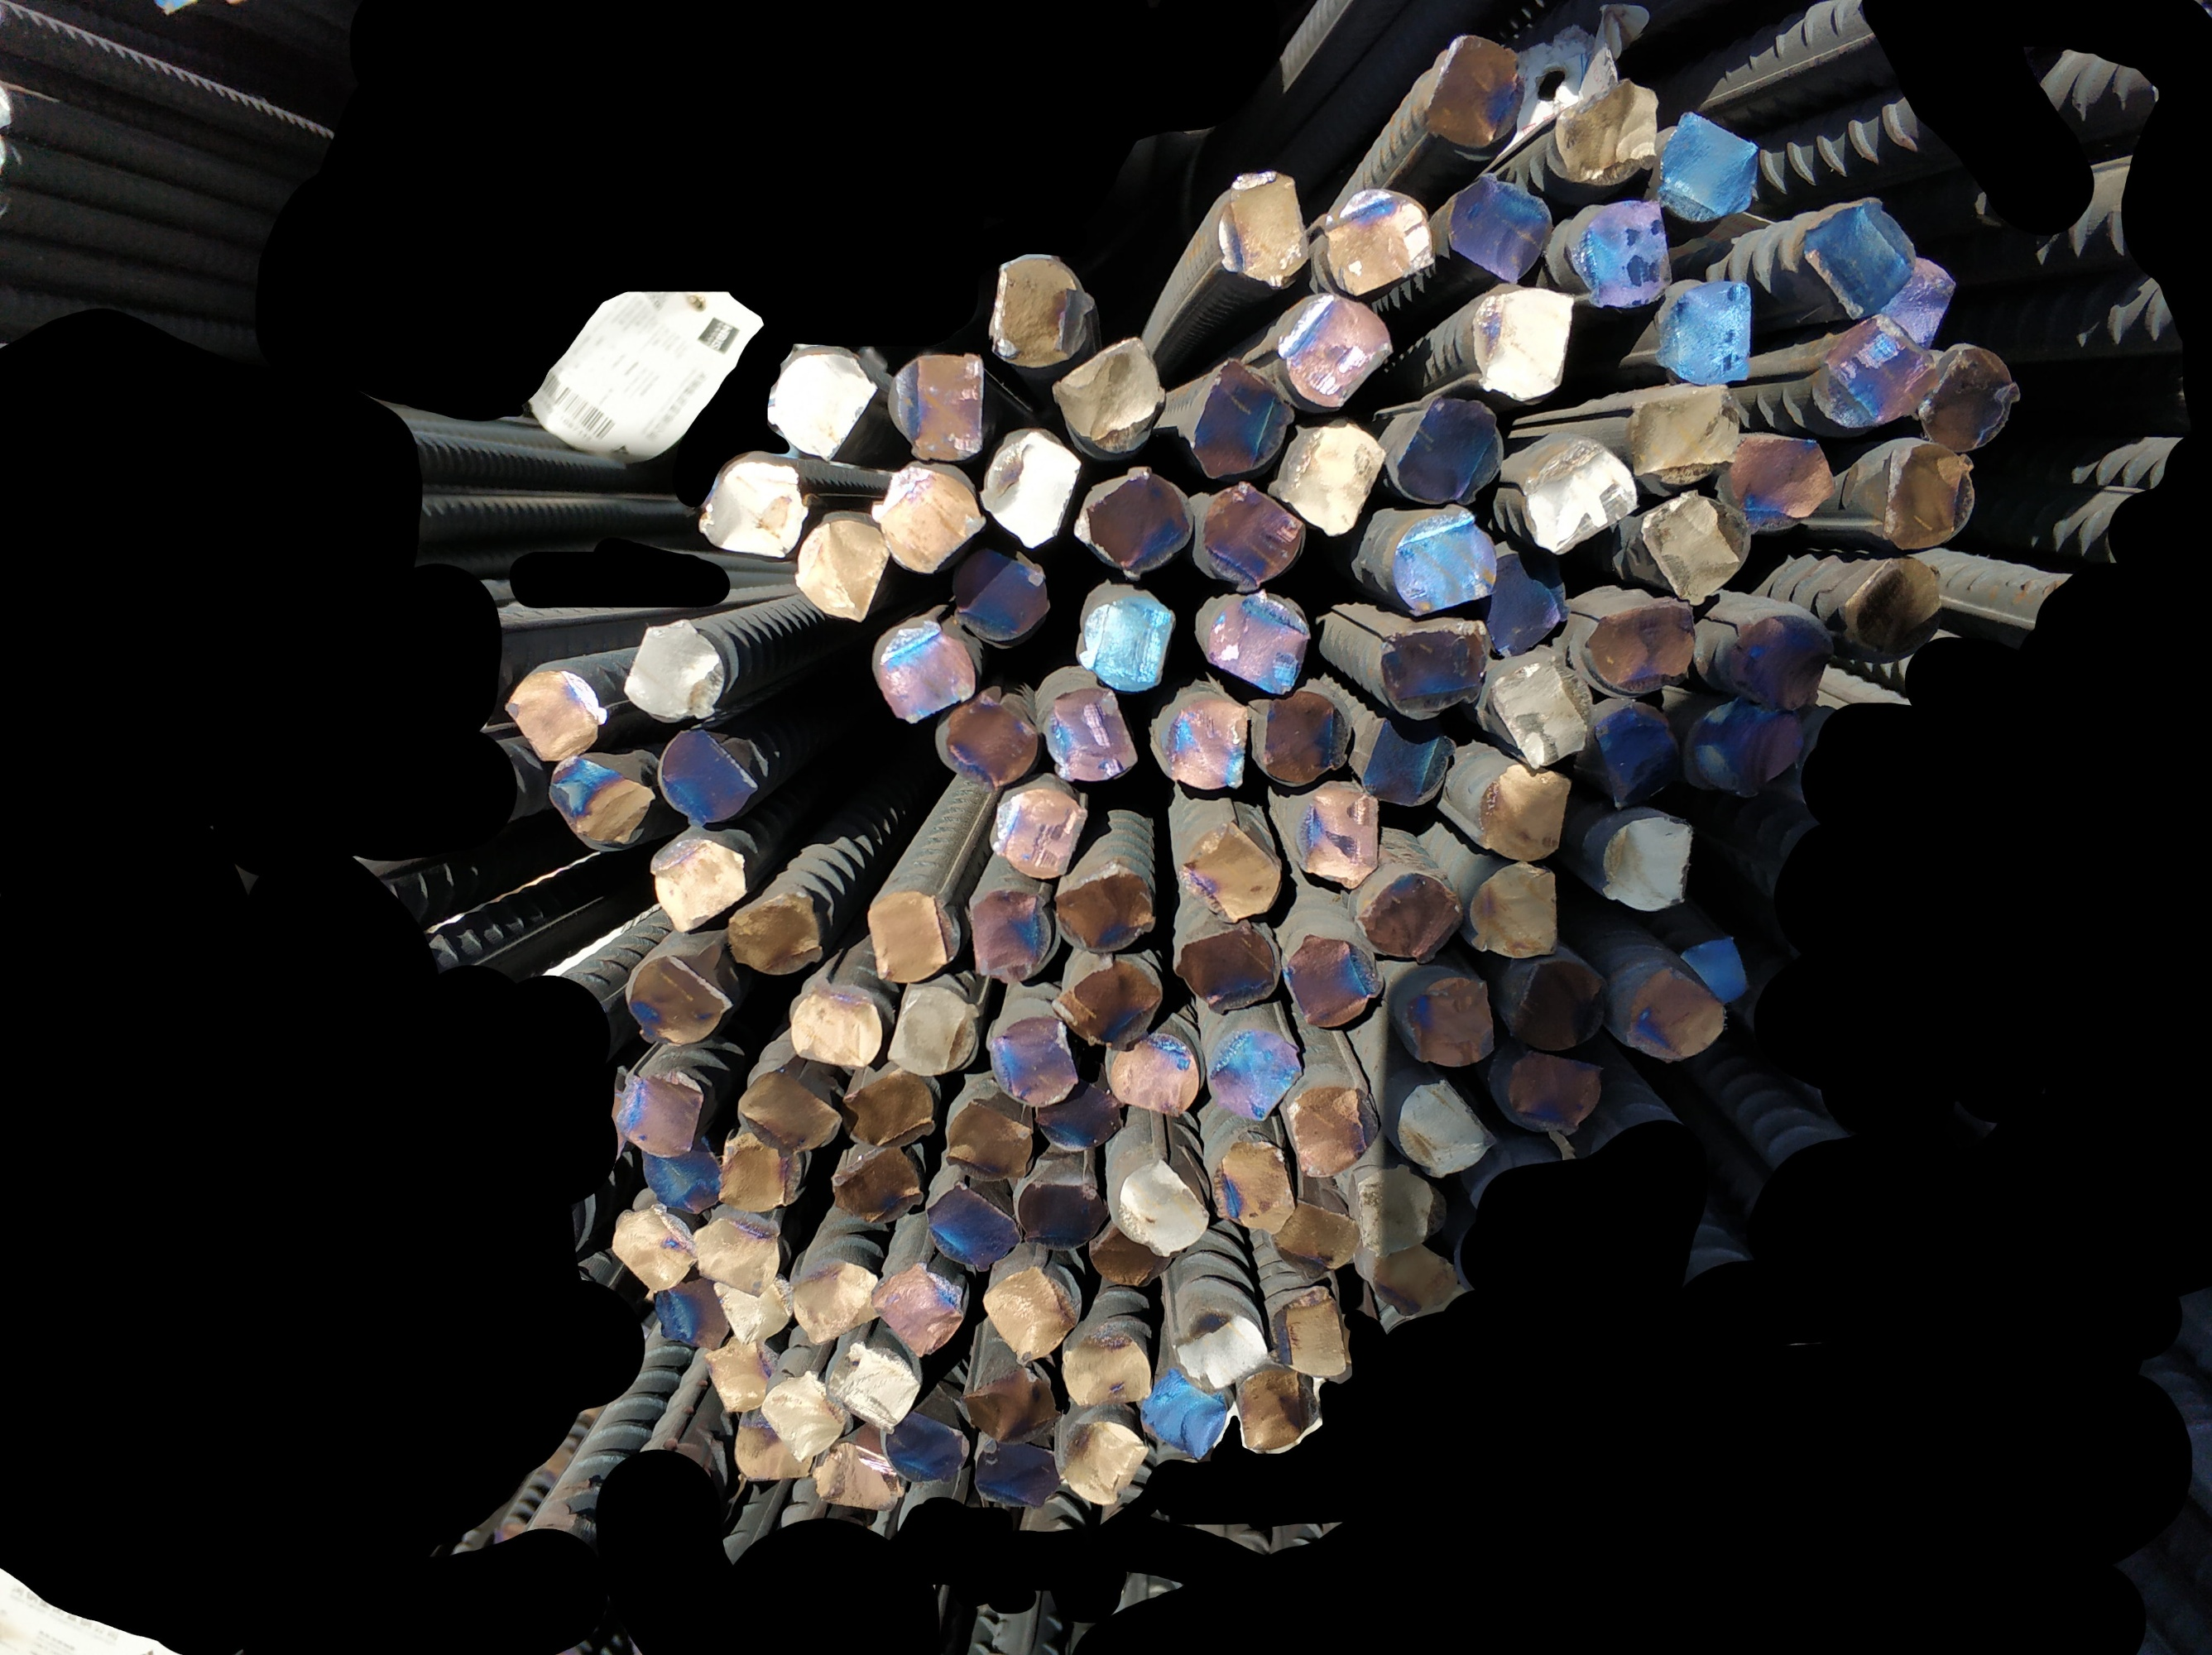rebar: (1800, 193, 1922, 327), (1811, 311, 1941, 428), (1270, 412, 1392, 535), (1623, 374, 1743, 497), (1281, 290, 1397, 412), (1315, 186, 1437, 301), (1077, 464, 1195, 581), (1520, 436, 1637, 555), (1719, 595, 1831, 716), (768, 337, 879, 461), (1053, 332, 1164, 455), (1390, 501, 1503, 621), (1416, 33, 1531, 150), (1642, 485, 1755, 603), (1838, 551, 1948, 671), (1715, 429, 1835, 537), (1486, 654, 1592, 775), (1190, 356, 1293, 482), (871, 462, 985, 574), (697, 450, 813, 560), (1447, 169, 1557, 285), (989, 250, 1095, 369), (1656, 111, 1762, 229), (1877, 438, 1983, 556), (978, 428, 1083, 548), (1394, 396, 1505, 508), (1199, 482, 1307, 596), (1468, 283, 1574, 400), (1913, 336, 2019, 452), (1552, 76, 1661, 188), (1586, 595, 1699, 702), (627, 942, 738, 1050), (1204, 588, 1314, 695), (1571, 195, 1673, 309), (1654, 273, 1757, 388), (872, 614, 977, 725), (1376, 617, 1489, 720), (653, 723, 761, 829), (622, 619, 728, 727), (1588, 695, 1682, 817), (1077, 577, 1176, 692), (1472, 542, 1569, 659), (938, 685, 1041, 794), (1051, 953, 1166, 1050), (1218, 170, 1314, 287), (1107, 1153, 1213, 1257), (1618, 963, 1727, 1064), (546, 751, 657, 850), (1178, 821, 1286, 921), (888, 351, 985, 462), (648, 833, 751, 937), (504, 662, 610, 763), (1159, 683, 1251, 798), (1204, 1020, 1305, 1125), (792, 515, 888, 624), (1694, 695, 1805, 789), (1600, 808, 1698, 914), (1395, 1078, 1496, 1179), (1512, 951, 1609, 1055), (1048, 862, 1157, 954), (1175, 923, 1284, 1015), (1286, 930, 1385, 1031), (1467, 859, 1564, 961), (1357, 869, 1463, 963), (982, 1264, 1079, 1365), (1044, 680, 1140, 782), (954, 546, 1053, 643), (615, 1060, 711, 1161), (820, 1342, 923, 1436), (1402, 974, 1500, 1071), (1479, 761, 1573, 862), (1168, 1304, 1274, 1392), (888, 982, 985, 1078), (923, 1177, 1020, 1273), (871, 1264, 970, 1358), (987, 788, 1088, 880), (1296, 779, 1380, 890), (1209, 1132, 1298, 1236), (735, 1066, 841, 1153), (1500, 1052, 1606, 1139), (985, 1010, 1079, 1107), (1105, 1027, 1202, 1121), (1289, 1081, 1383, 1179), (1260, 690, 1354, 788), (867, 887, 961, 982), (1364, 715, 1458, 810), (945, 1090, 1036, 1189), (970, 878, 1050, 989), (1056, 1412, 1150, 1505), (693, 1206, 784, 1302), (728, 887, 822, 977), (612, 1201, 700, 1297), (1017, 1166, 1114, 1253), (1232, 1359, 1317, 1459), (825, 1142, 926, 1226), (959, 1368, 1062, 1450), (789, 1259, 883, 1347), (1056, 1326, 1154, 1412), (789, 986, 888, 1069), (1142, 1373, 1232, 1464), (1270, 1193, 1362, 1281), (759, 1372, 848, 1462), (843, 1066, 937, 1151), (1267, 1285, 1350, 1380), (1355, 1158, 1439, 1250), (1875, 250, 1955, 346), (718, 1127, 803, 1215), (1037, 1074, 1128, 1156), (810, 1438, 904, 1516), (650, 1273, 738, 1354), (723, 1406, 813, 1486), (879, 1412, 975, 1485), (973, 1431, 1063, 1507), (639, 1137, 723, 1219), (1373, 1241, 1460, 1319), (711, 1269, 798, 1346), (699, 1337, 777, 1413), (1679, 935, 1757, 1012), (1088, 1220, 1169, 1293)
